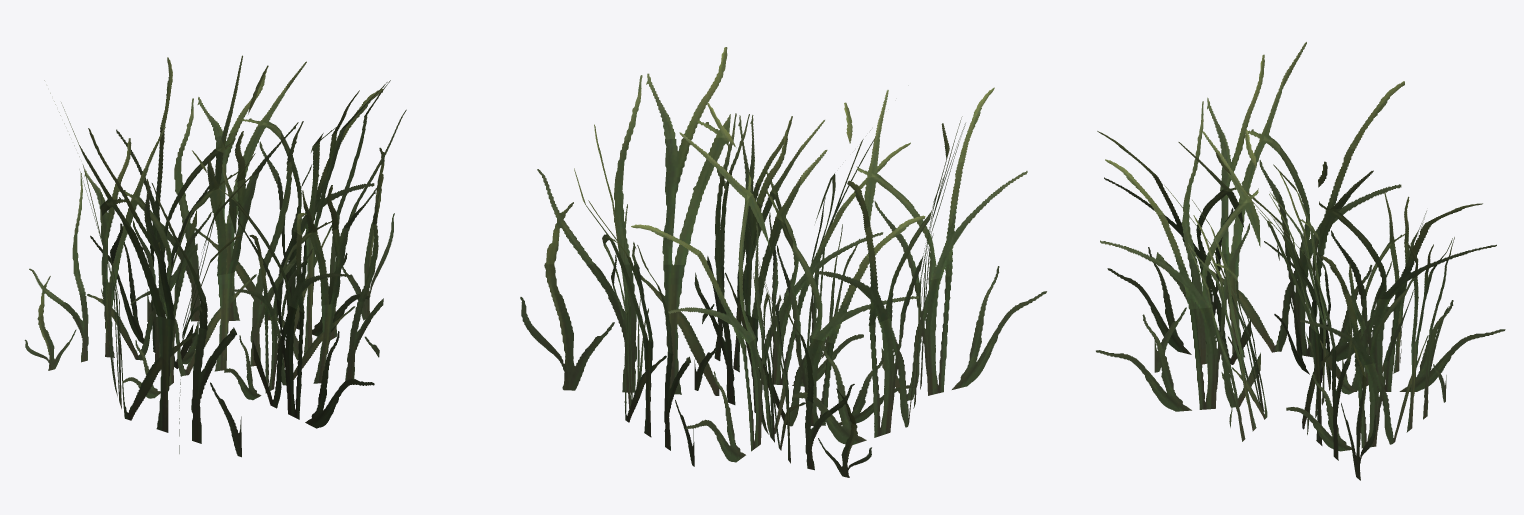
The model's file is bg_anh_foliage_te_b73_sm_old.FBX.
The picture shows the model from 3 angles, left to right: view 1: azimuth 30°, elevation 25°; view 2: azimuth 150°, elevation 25°; view 3: azimuth 270°, elevation 25°; orthographic projection. The views are drawn at different scales.
Visible parts, largest first — view 1: bg_anh_foliage_te_b73_sm_old; view 2: bg_anh_foliage_te_b73_sm_old; view 3: bg_anh_foliage_te_b73_sm_old.
Boxes of the visible parts, box(x1,y1,x2,y2) form: bg_anh_foliage_te_b73_sm_old: box(24, 55, 406, 457); bg_anh_foliage_te_b73_sm_old: box(520, 47, 1046, 477); bg_anh_foliage_te_b73_sm_old: box(1096, 42, 1505, 480).
Bounding box in the file's own units: 106 × 82.76 × 103.
